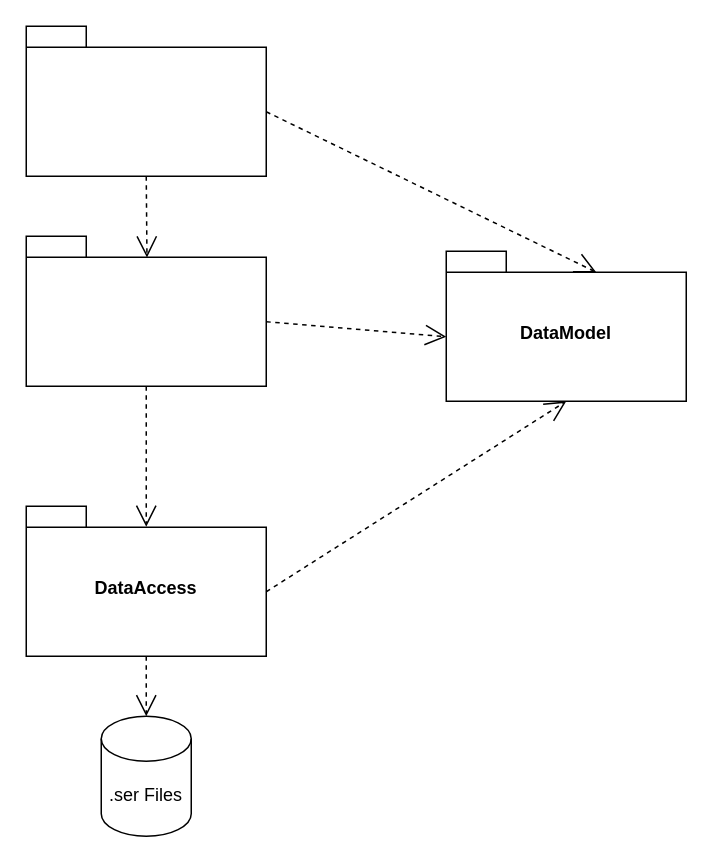
The diagram is 713 pixels wide and 863 high, and some of its shapes have lost their labels. The centre of each missing label's shape, as x and y in pixels:
"BusinessLogic" belongs at point (145, 310).
"GraphicalUserInterface" belongs at point (145, 100).
